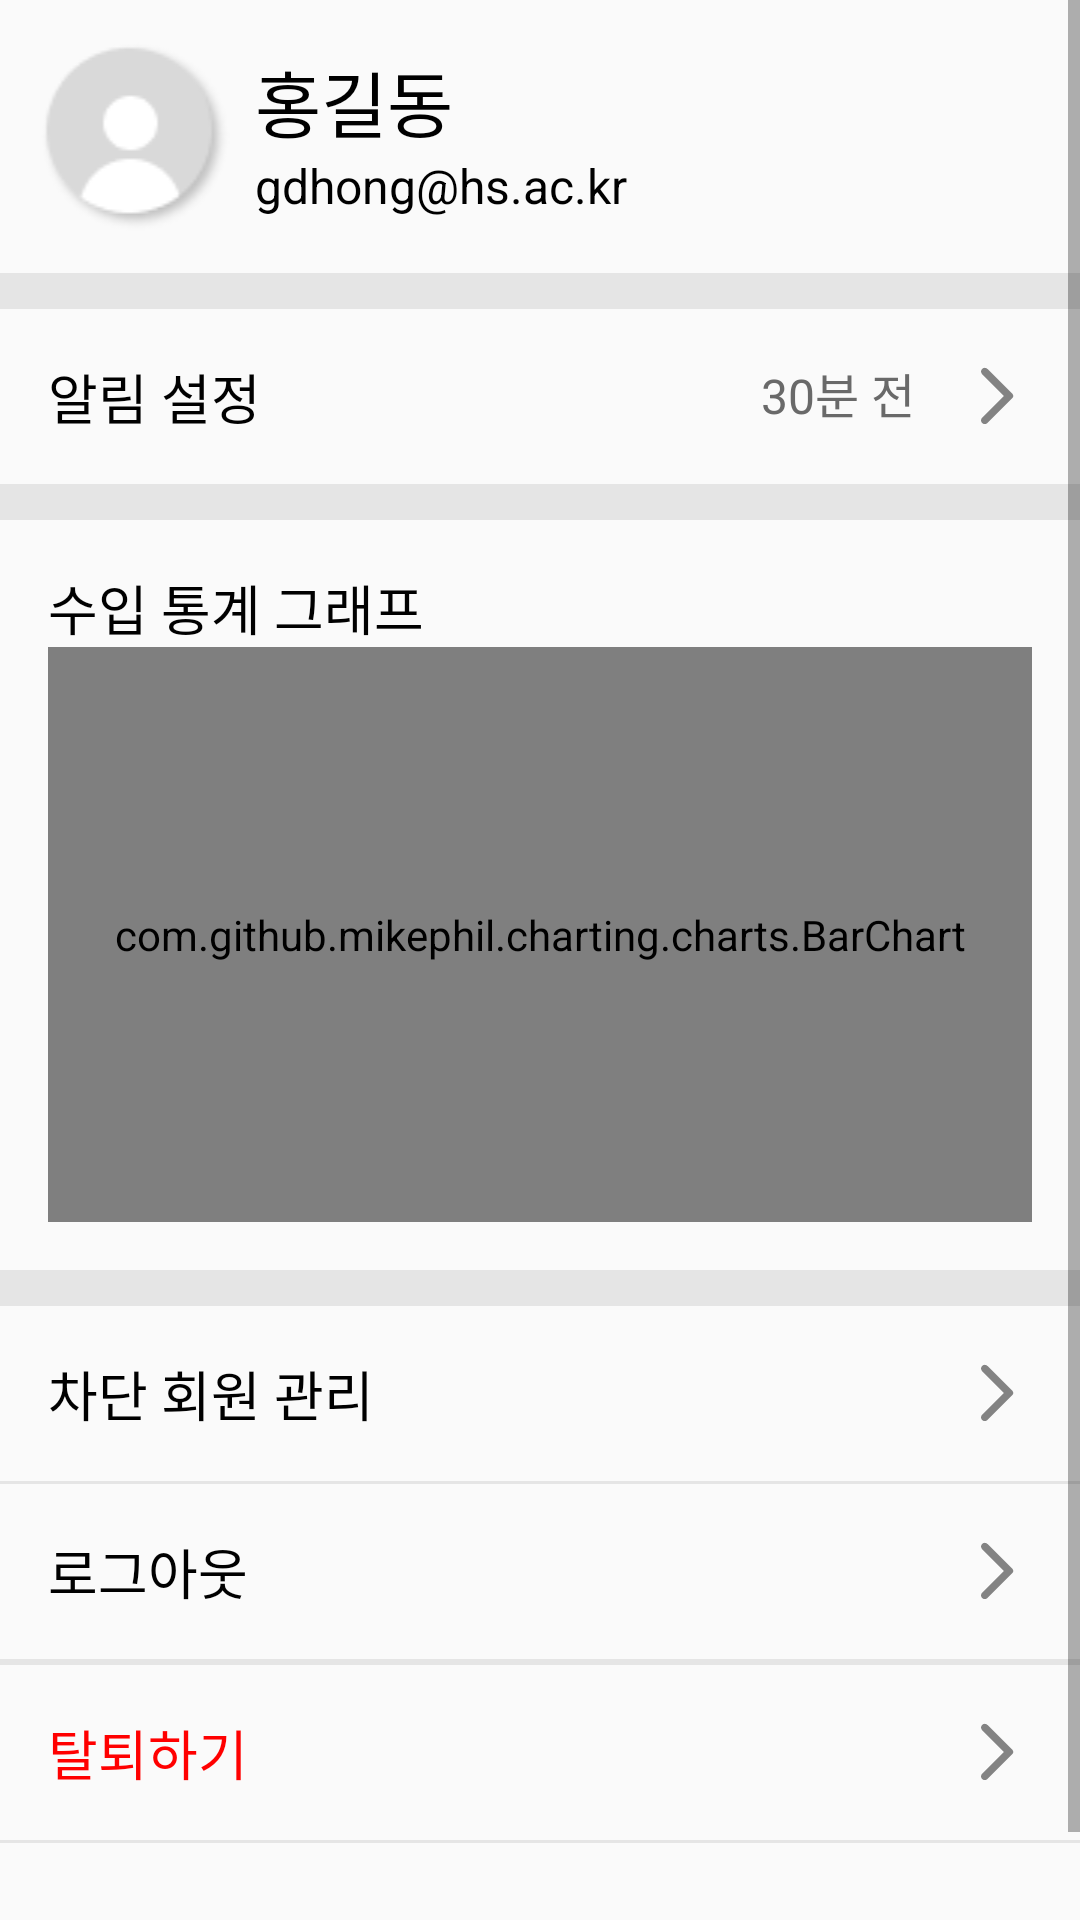

Screen size 1080w x 1920h. Icon name, then its box in pixels as (x1, y1, x2, y2):
arrow right: (981, 368, 1013, 424), (981, 1365, 1013, 1421), (981, 1543, 1013, 1599), (981, 1724, 1013, 1780)
profile: (47, 49, 219, 220)
